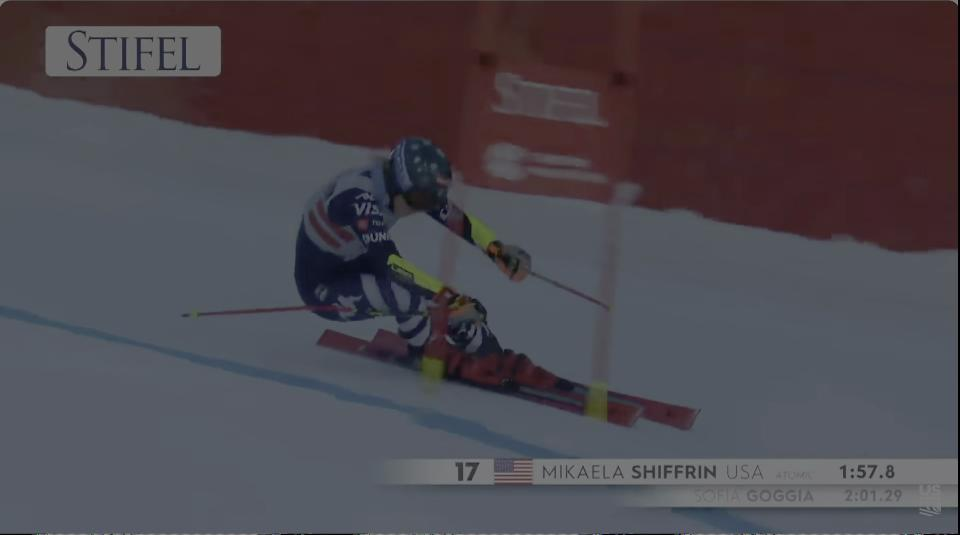gate: (582, 0, 671, 443), (437, 0, 501, 412)
